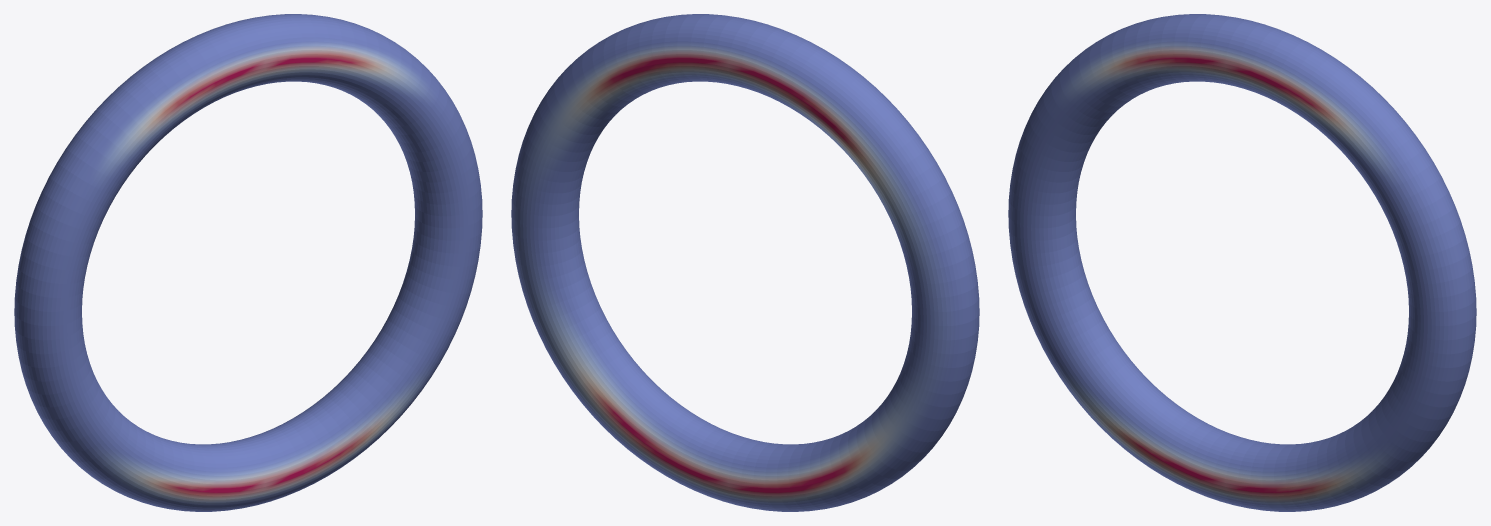
3 renders of one model, left to right at view 1: azimuth 30°, elevation 25°; view 2: azimuth 150°, elevation 25°; view 3: azimuth 330°, elevation 25°, orthographic.
Parts seen in each view (by area): view 1: world; view 2: world; view 3: world.
Part boxes in pixels (bbox=[...]): world: bbox=[14, 14, 482, 511]; world: bbox=[511, 14, 979, 511]; world: bbox=[1008, 14, 1476, 511].
Size of the model in its own units: 19.87 by 19.87 by 2.53.
